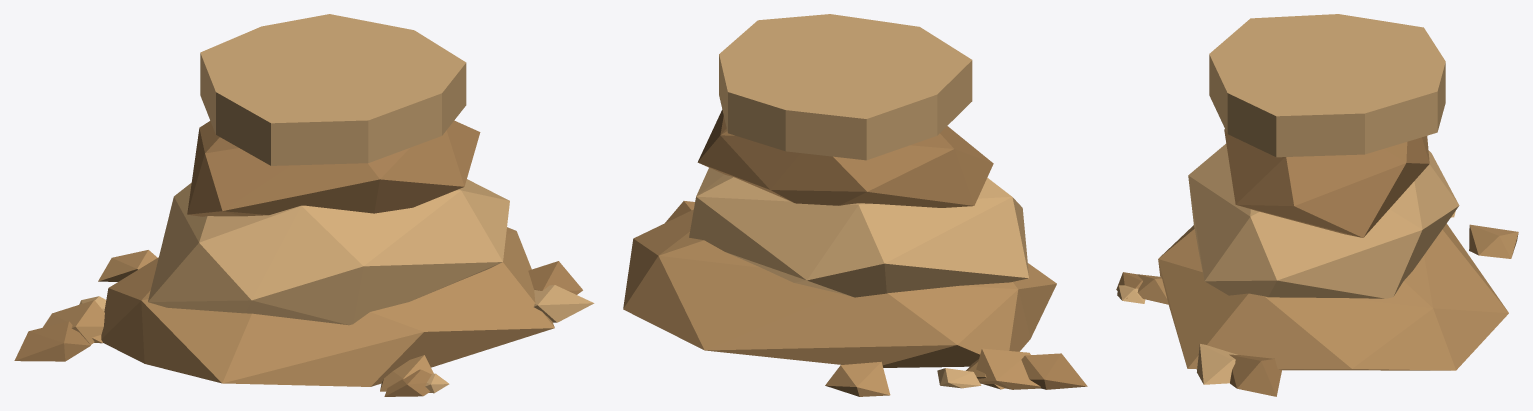
Rendered from desert_mesa.glb.
The picture shows the model from 3 angles, left to right: view 1: azimuth 30°, elevation 25°; view 2: azimuth 150°, elevation 25°; view 3: azimuth 270°, elevation 25°; orthographic projection. The views are drawn at different scales.
Visible parts, largest first — view 1: desert_mesa; view 2: desert_mesa; view 3: desert_mesa.
Part boxes in pixels (bbox=[...]): desert_mesa: bbox=[14, 14, 594, 396]; desert_mesa: bbox=[623, 14, 1087, 396]; desert_mesa: bbox=[1116, 14, 1518, 396].
Bounding box in the file's own units: 14.67 × 6.8 × 10.66.
